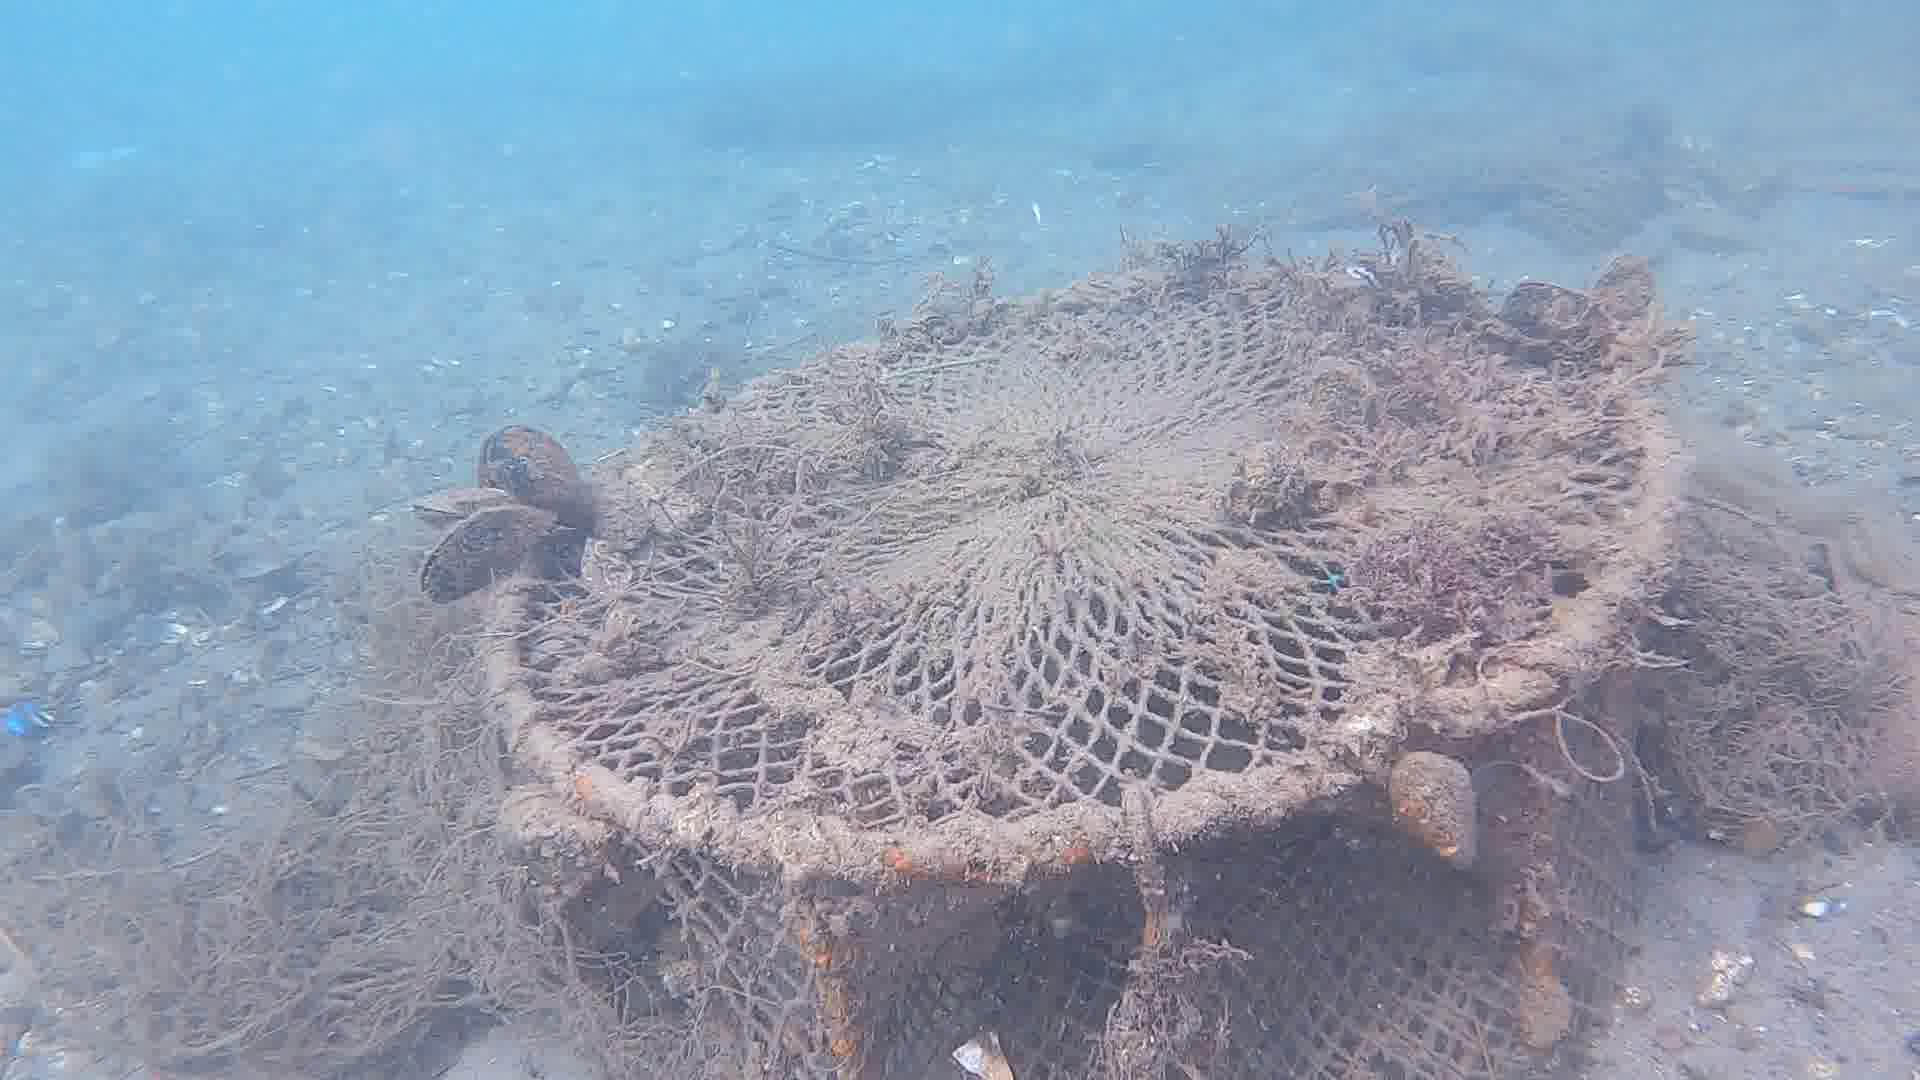circular fish trap: (471, 272, 1680, 1080)
